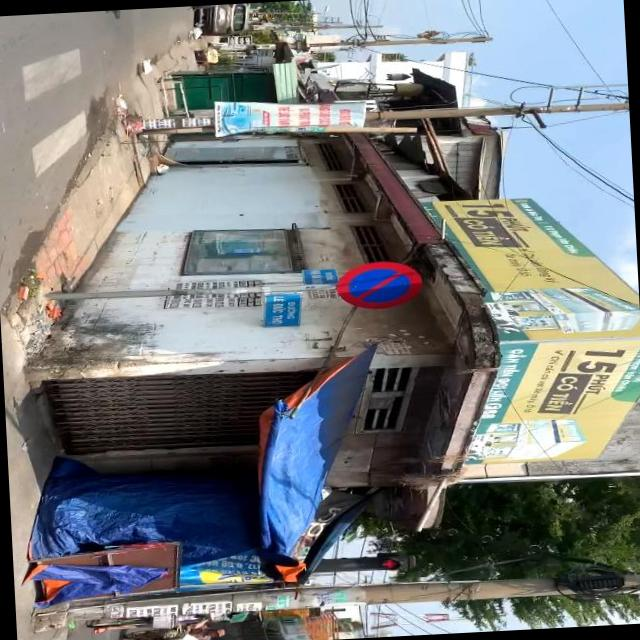P-131a: (336, 260, 426, 312)
